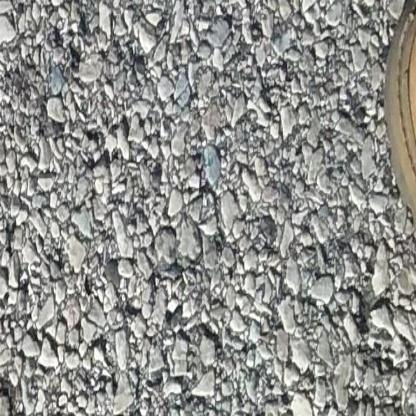Cracks: (0, 369, 43, 416)
